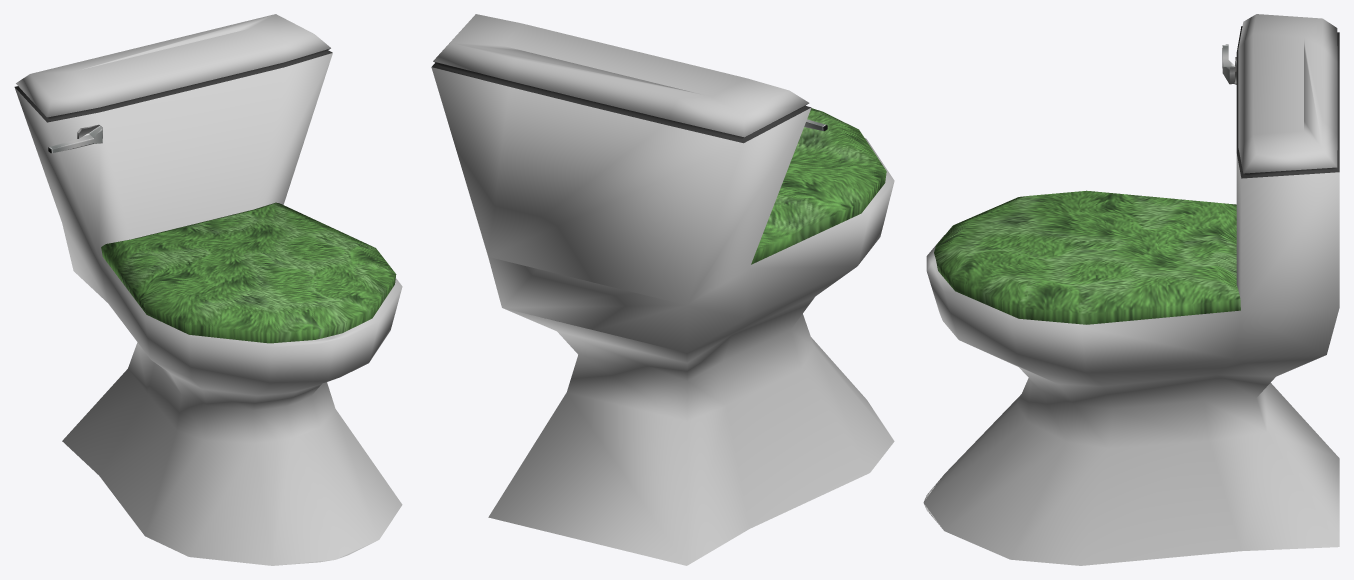
Rendered from Potty_D.FBX.
3 views of the same model, side by side, from view 1: azimuth 30°, elevation 25°; view 2: azimuth 150°, elevation 25°; view 3: azimuth 270°, elevation 25° (orthographic). The views are drawn at different scales.
Visible parts, largest first — view 1: Potty; view 2: Potty; view 3: Potty.
Part boxes in pixels (x1,y1,x2,y2): Potty: (14,14,402,565); Potty: (431,14,894,565); Potty: (923,14,1339,565).
Size of the model in its own units: 140 by 176 by 159.
